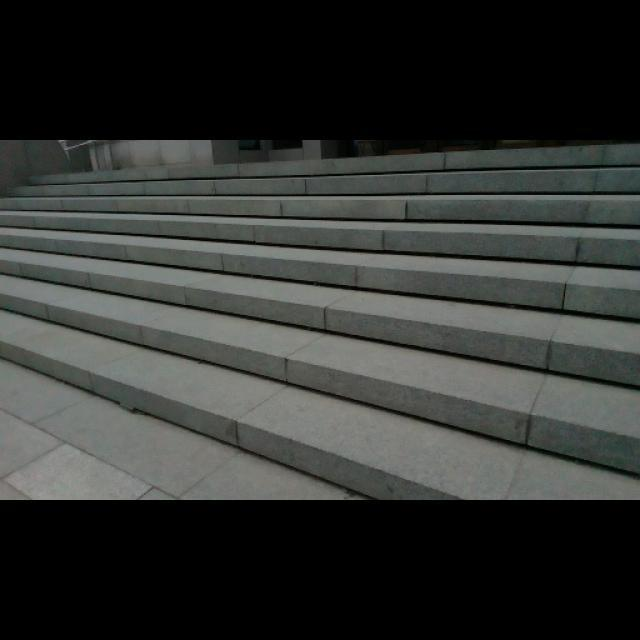stair: (8, 170, 640, 488)
